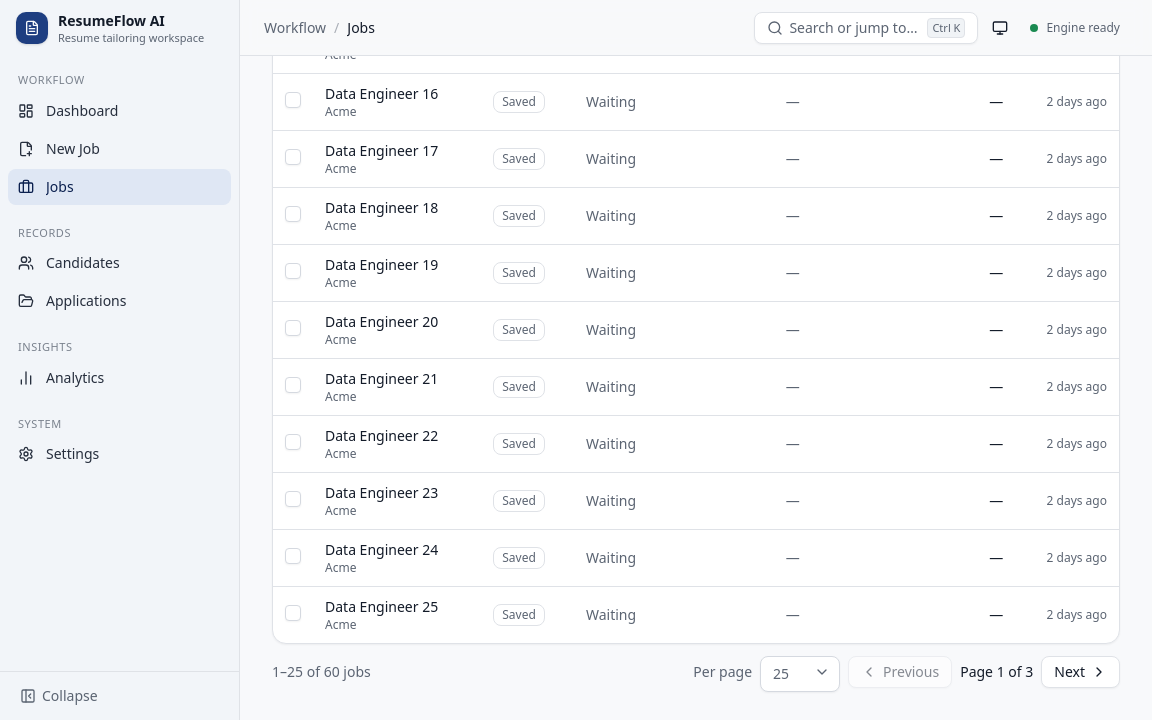
job list pages › shows 25 jobs a page and moves between pages
(page scrolled)
Expected: the text "1–25 of 60 jobs" is shown, [272, 662, 371, 682]
Expected: the link "Data Engineer 25" is shown, [325, 596, 438, 616]
Click the button with aria-label "Next page": coordinates (1081, 672) [1041, 656, 1120, 688]
(page scrolled)
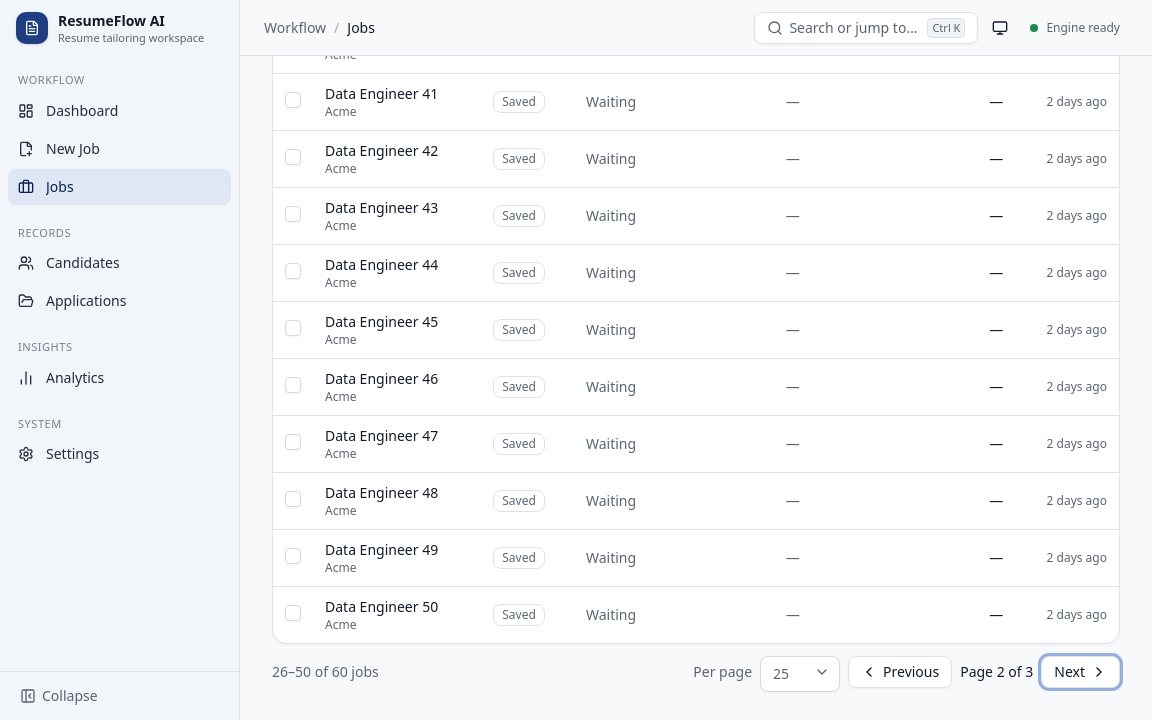
Result: the text "26–50 of 60 jobs" is shown at [272, 662, 379, 682]
Result: the text "Page 2 of 3" is shown at [960, 662, 1033, 682]
Click the button with aria-label "Next page": coordinates (1081, 672) [1041, 656, 1120, 688]
(page scrolled)
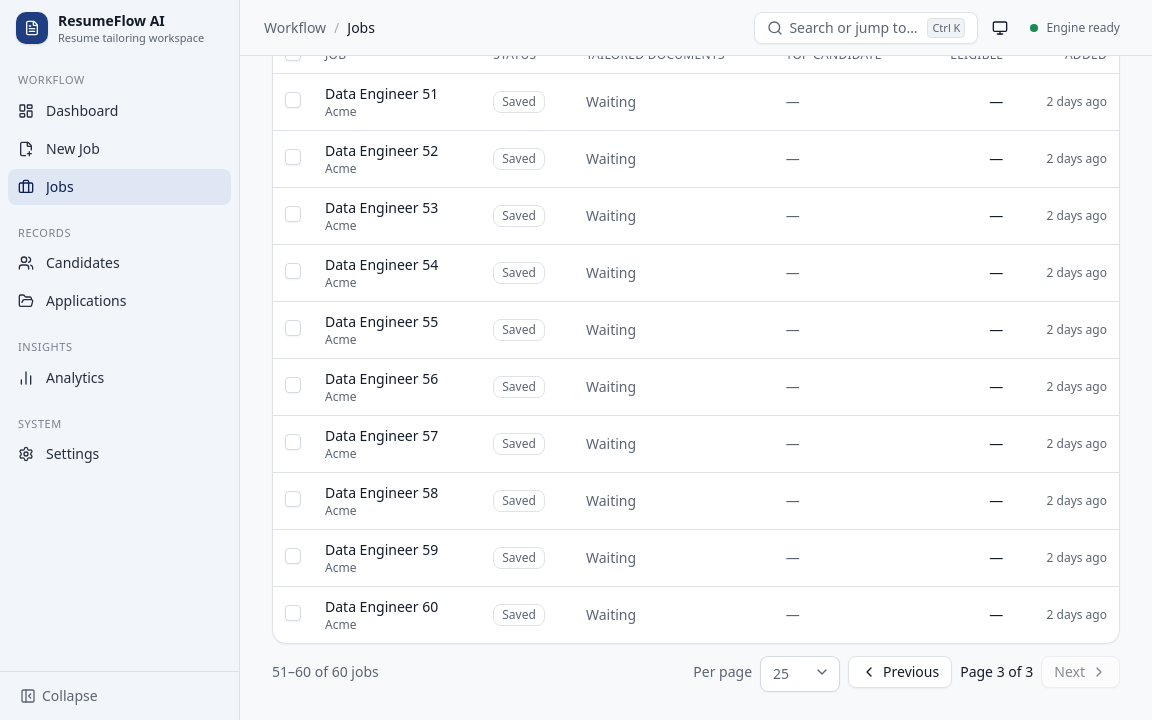
Result: the text "51–60 of 60 jobs" is shown at [272, 662, 379, 682]
Result: the button with aria-label "Next page" is disabled at [1041, 656, 1120, 688]
